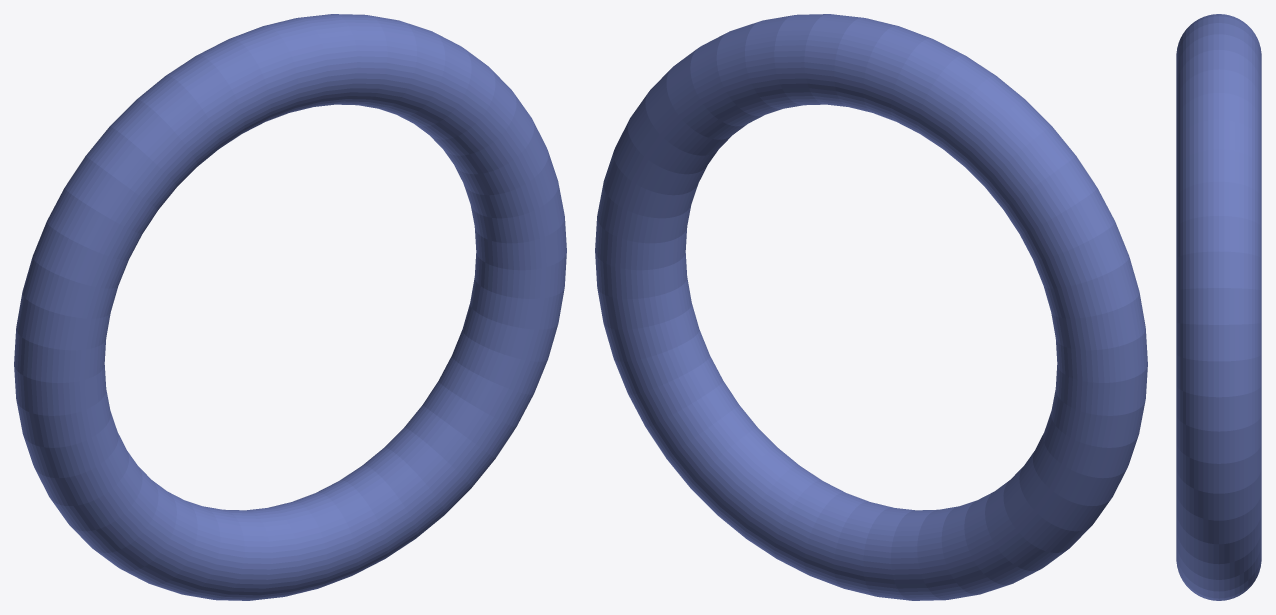
3 renders of one model, left to right at view 1: azimuth 30°, elevation 25°; view 2: azimuth 150°, elevation 25°; view 3: azimuth 270°, elevation 25°, orthographic. The views are drawn at different scales.
Parts seen in each view (by area): view 1: world; view 2: world; view 3: world.
Part boxes in pixels (x1,y1,x2,y2): world: [14, 14, 566, 600]; world: [595, 14, 1147, 600]; world: [1176, 14, 1261, 600].
Size of the model in its own units: 15.6 by 15.57 by 2.26.
